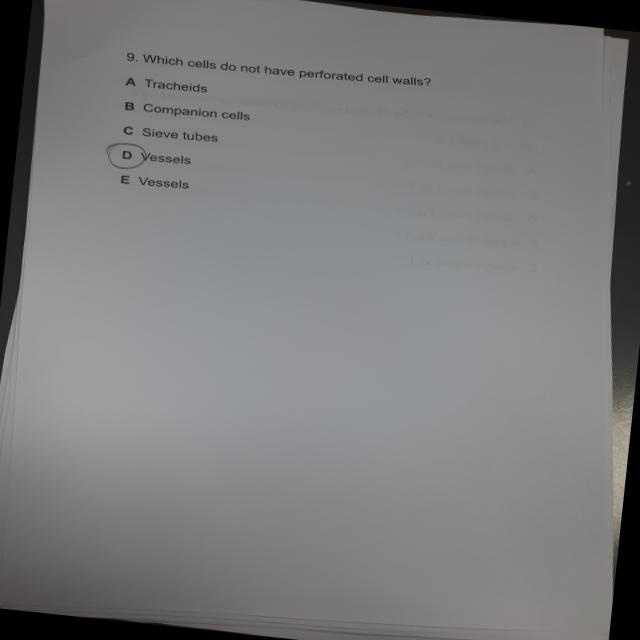D: (101, 141, 153, 175)
